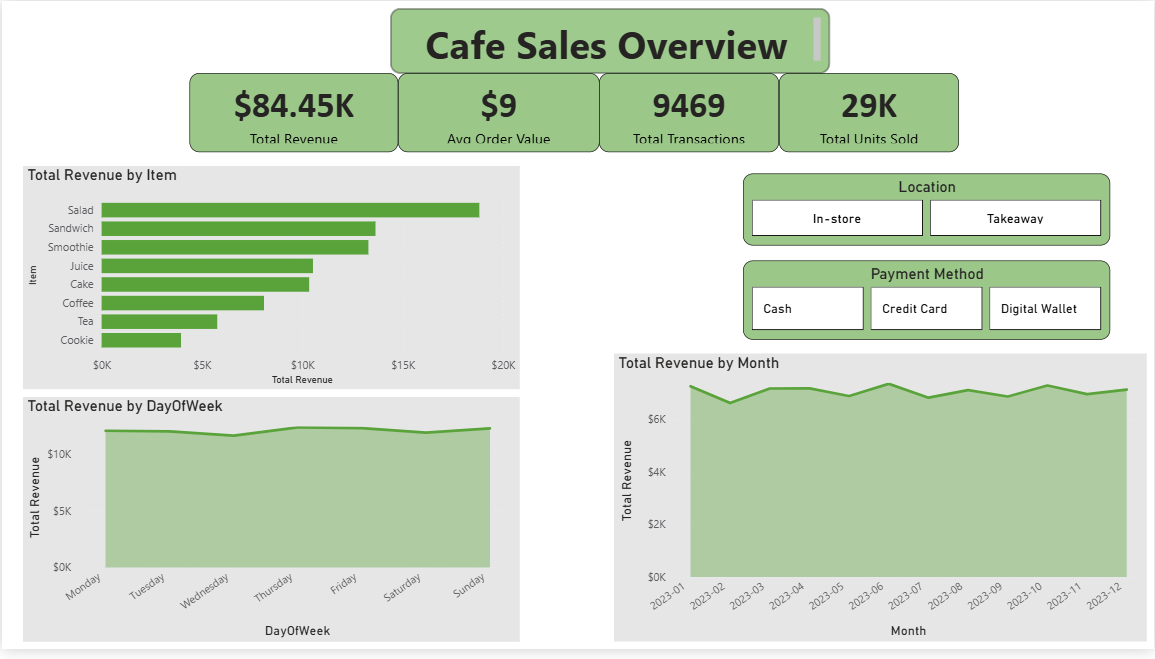

What the dashboard file says about the page in this screenshot:
{"tool":"powerbi","page":{"name":"Page 1","canvas":[1280,720],"ordinal":0},"visuals":[{"type":"card","fields":{"Values":["CafeSales.Total Revenue"]},"box":[208,80,232,88],"z":0},{"type":"card","fields":{"Values":["CafeSales.Avg Order Value"]},"box":[440,80,224,88],"z":1000},{"type":"card","fields":{"Values":["CafeSales.Total Transactions"]},"box":[664,80,200,88],"z":2000},{"type":"card","fields":{"Values":["CafeSales.Total Units Sold"]},"box":[864,80,200,88],"z":3000},{"type":"textbox","box":[432,8,488,72],"z":4000},{"type":"advancedSlicerVisual","fields":{"Values":["CafeSales.Location"]},"box":[824,192,408,80],"z":5000},{"type":"advancedSlicerVisual","fields":{"Values":["CafeSales.Payment Method"]},"box":[824,288,408,88],"z":6000},{"type":"stackedAreaChart","fields":{"Category":["DateTable.Month"],"Y":["CafeSales.Total Revenue"]},"box":[680,392,592,288],"z":7000},{"type":"columnChart","fields":{"Category":["DateTable.DayOfWeek"],"Y":["CafeSales.Total Revenue"]},"box":[24,440,552,240],"z":8000},{"type":"barChart","fields":{"Category":["CafeSales.Item"],"Y":["CafeSales.Total Revenue"]},"box":[24,184,552,248],"z":9000},{"type":"textbox","box":[8,680,576,40],"z":11000},{"type":"textbox","box":[680,680,592,40],"z":12000}]}

Visuals, with their boxes in screenshot pixels (x1, y1, x2, y2), scaled from the page's 1280x720 canvas onto the 1155x659 screenshot:
card - CafeSales.Total Revenue: <bbox>188, 73, 397, 154</bbox>
card - CafeSales.Avg Order Value: <bbox>397, 73, 599, 154</bbox>
card - CafeSales.Total Transactions: <bbox>599, 73, 780, 154</bbox>
card - CafeSales.Total Units Sold: <bbox>780, 73, 960, 154</bbox>
textbox: <bbox>390, 7, 830, 73</bbox>
advancedSlicerVisual - CafeSales.Location: <bbox>744, 176, 1112, 249</bbox>
advancedSlicerVisual - CafeSales.Payment Method: <bbox>744, 264, 1112, 344</bbox>
stackedAreaChart - DateTable.Month x CafeSales.Total Revenue: <bbox>614, 359, 1148, 622</bbox>
columnChart - DateTable.DayOfWeek x CafeSales.Total Revenue: <bbox>22, 403, 520, 622</bbox>
barChart - CafeSales.Item x CafeSales.Total Revenue: <bbox>22, 168, 520, 395</bbox>
textbox: <bbox>7, 622, 527, 658</bbox>
textbox: <bbox>614, 622, 1148, 658</bbox>
